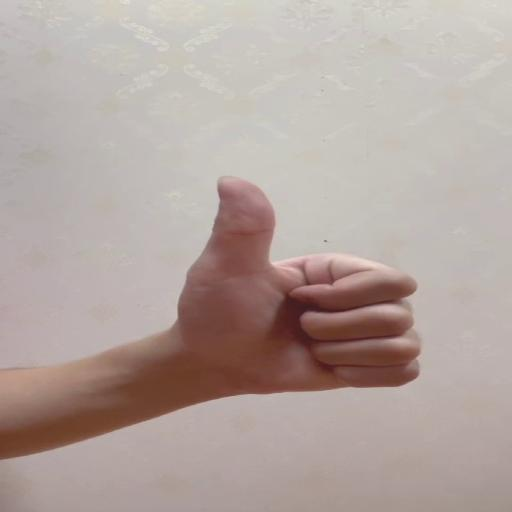thumbs_up: (187, 173, 422, 392)
